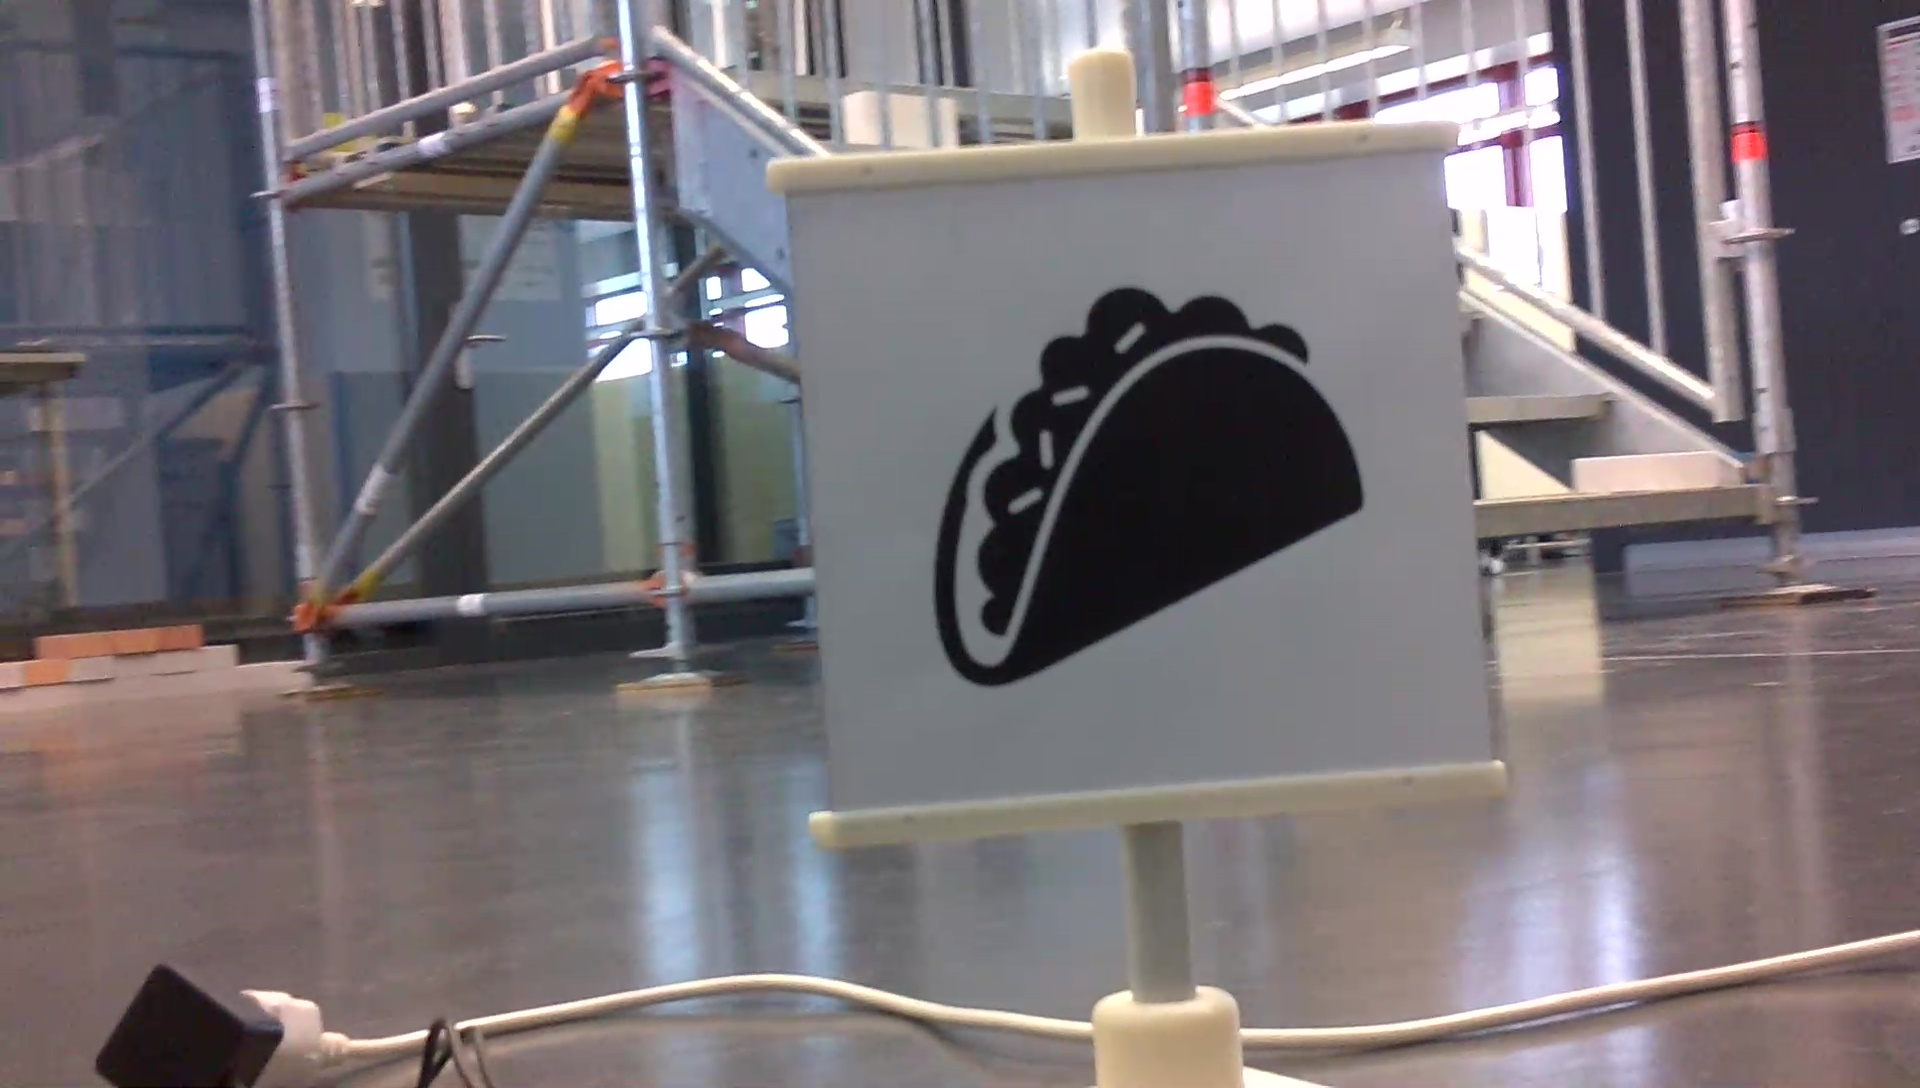brick: (1572, 452, 1716, 495)
taco: (920, 270, 1375, 706)
